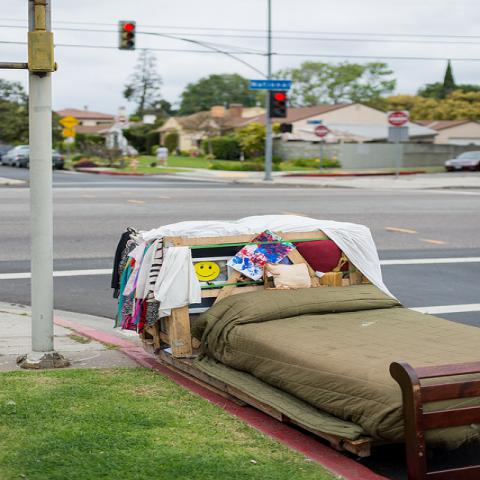car: (14, 149, 64, 170), (445, 151, 479, 172), (1, 149, 27, 166), (0, 145, 15, 161)
